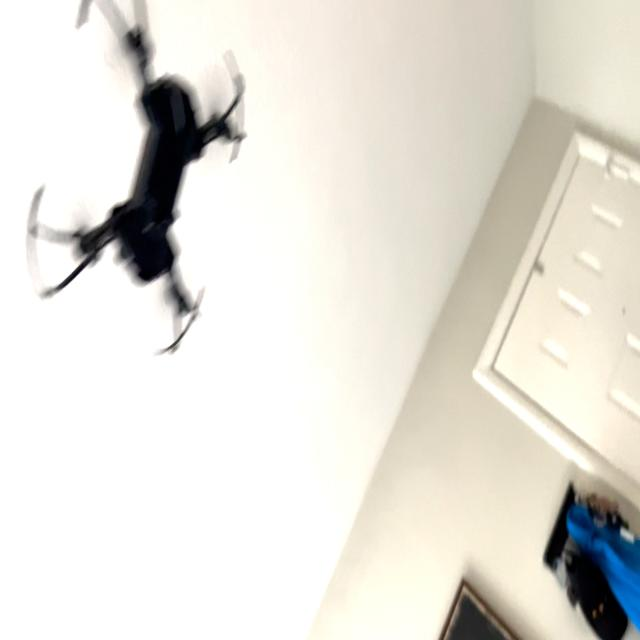drone: (17, 0, 260, 375)
